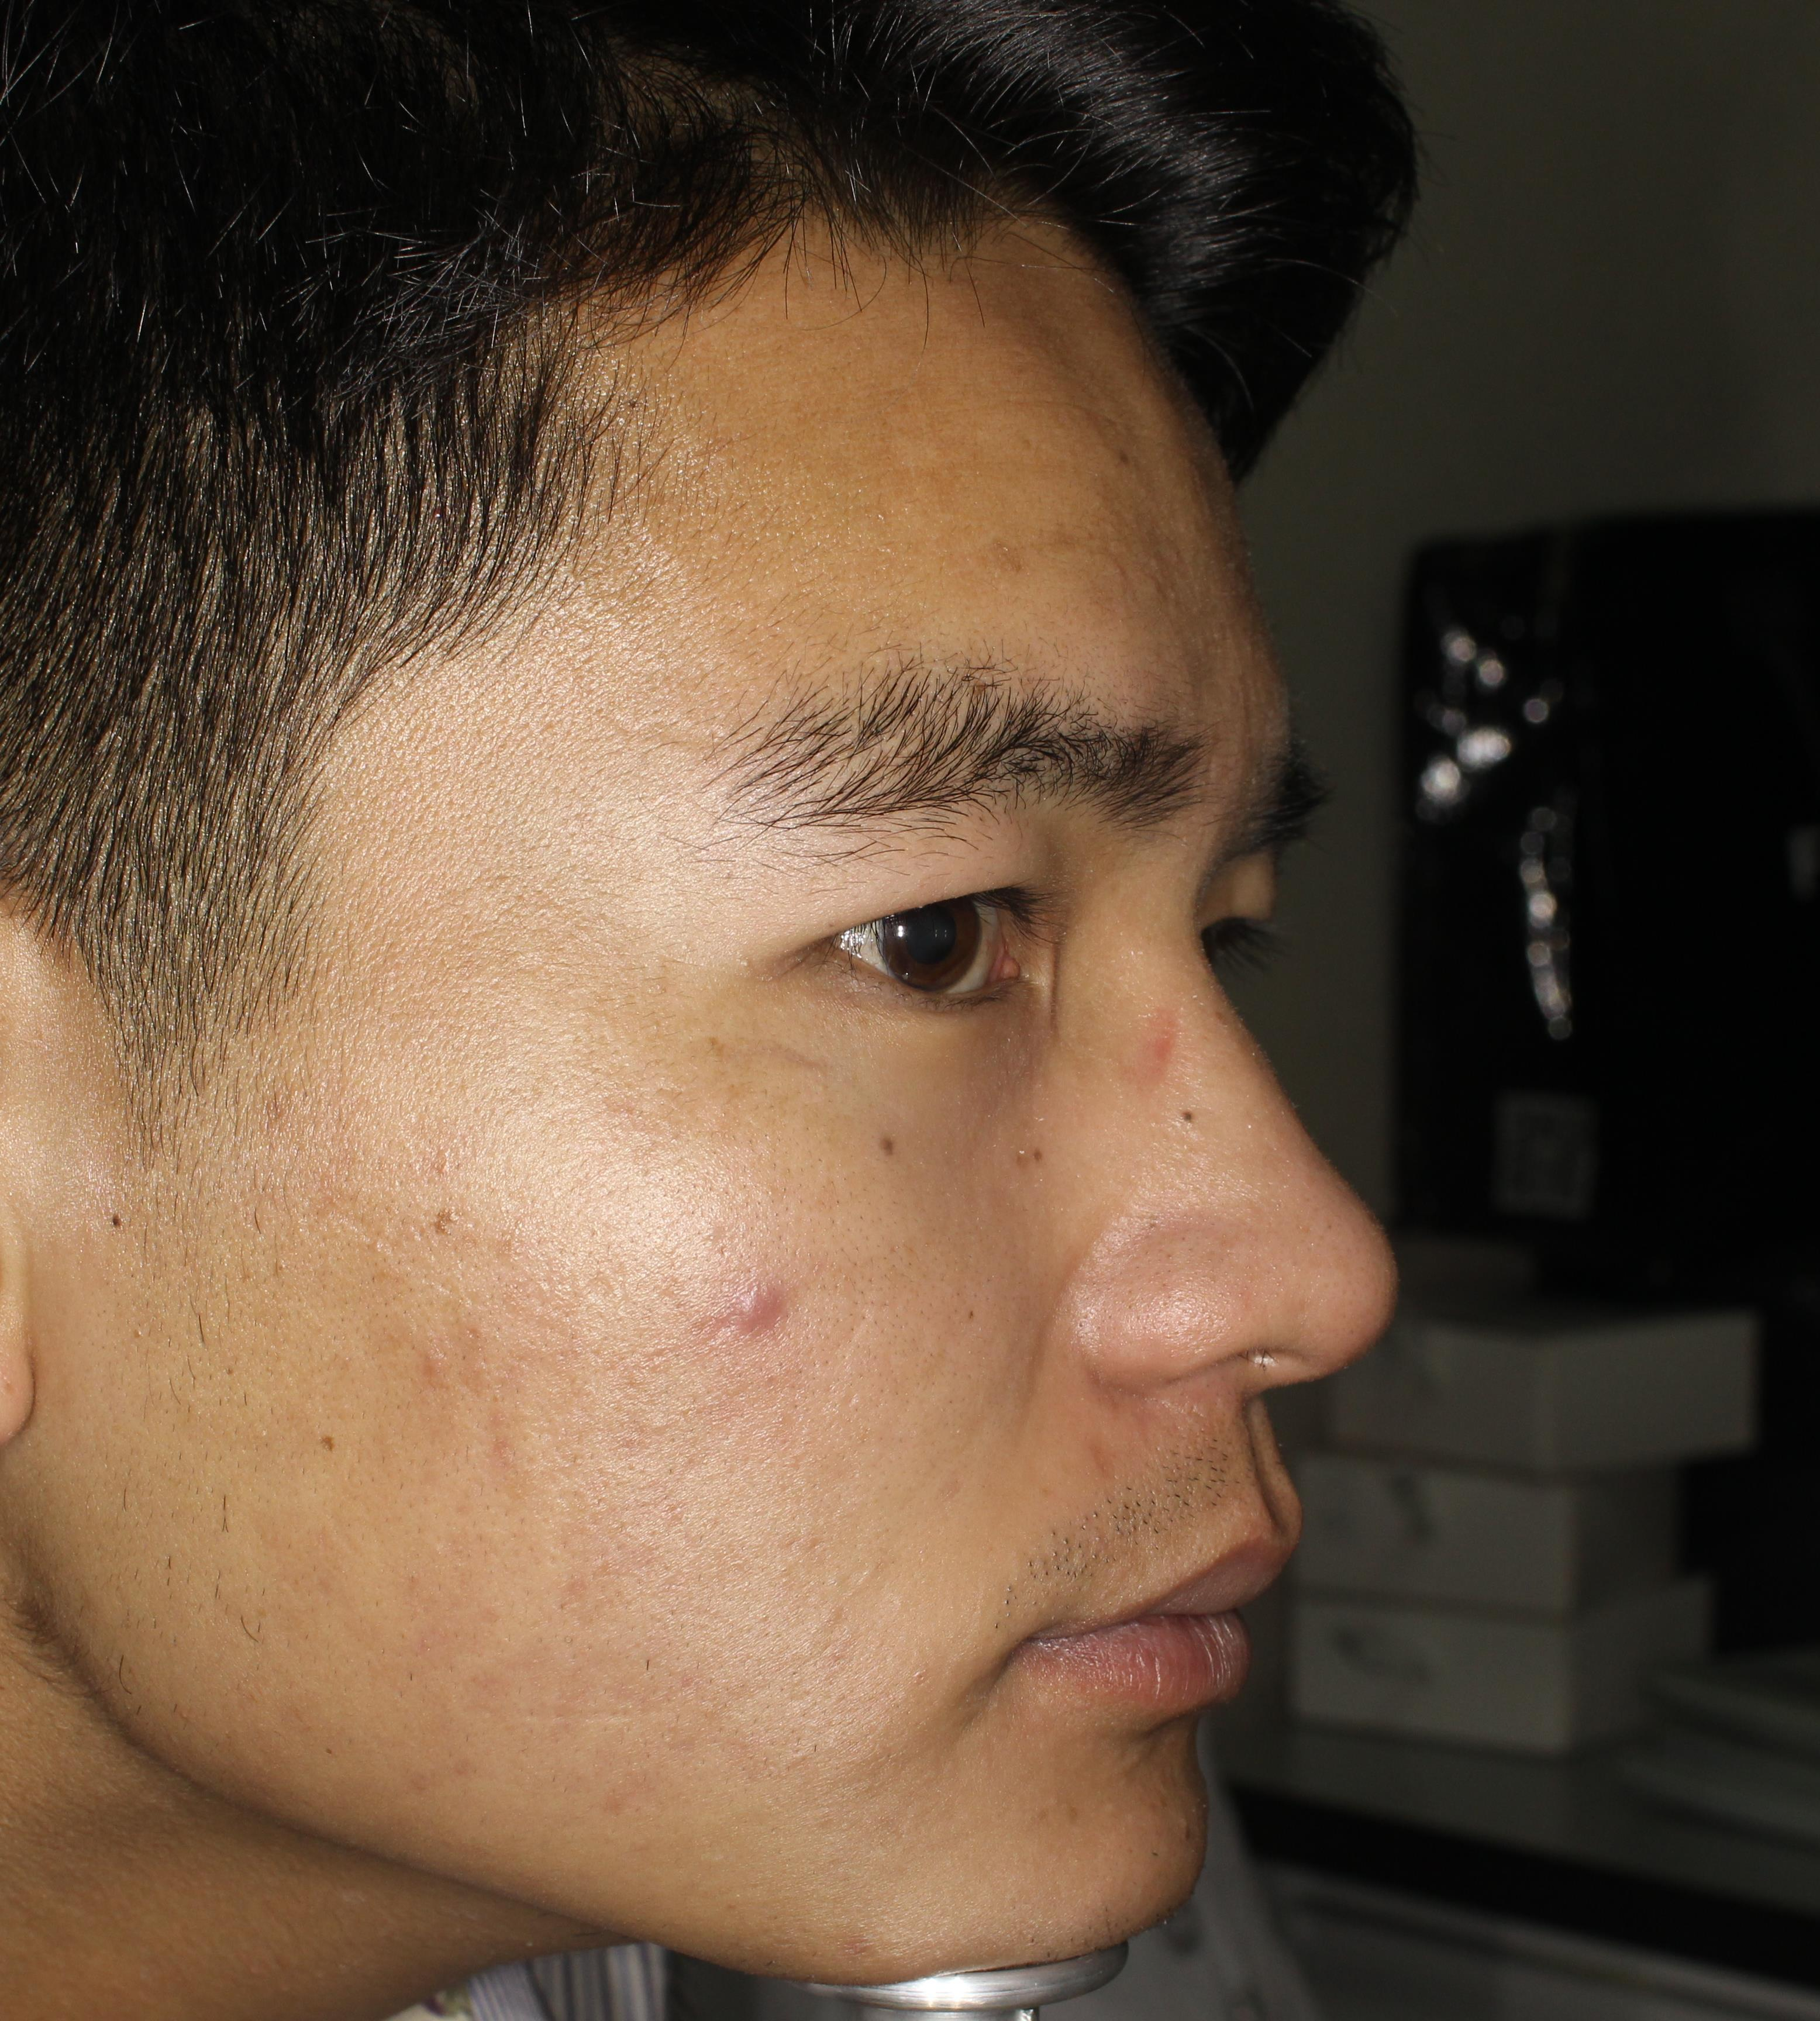fore: (704, 1262, 812, 1375)
